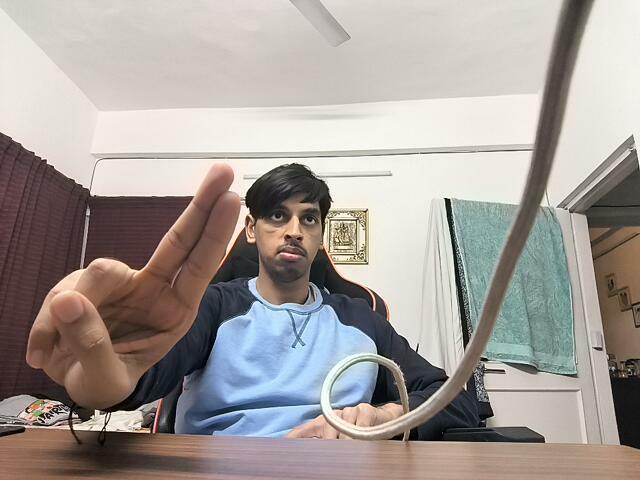FORWARD: (26, 154, 249, 433)
